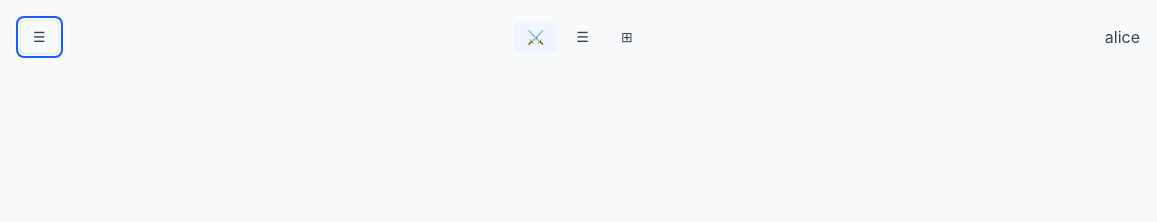
Header hamburger menu › "Sync to BGG" item is disabled when dirtyGameIds is empty
Click the button named "menu". click: (39, 37)
box: [20,20,59,54]
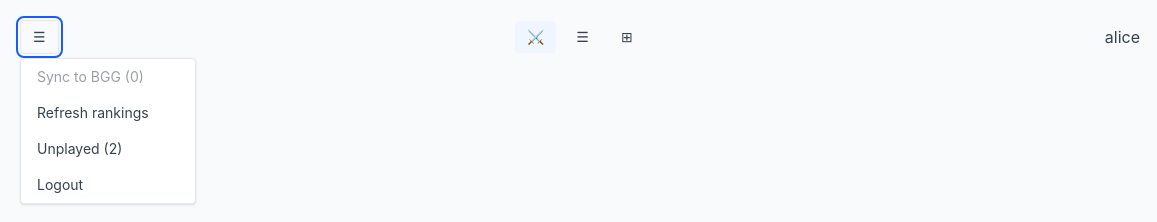
Expected: the button "Sync to BGG (0)" is disabled, [21,59,195,95]
